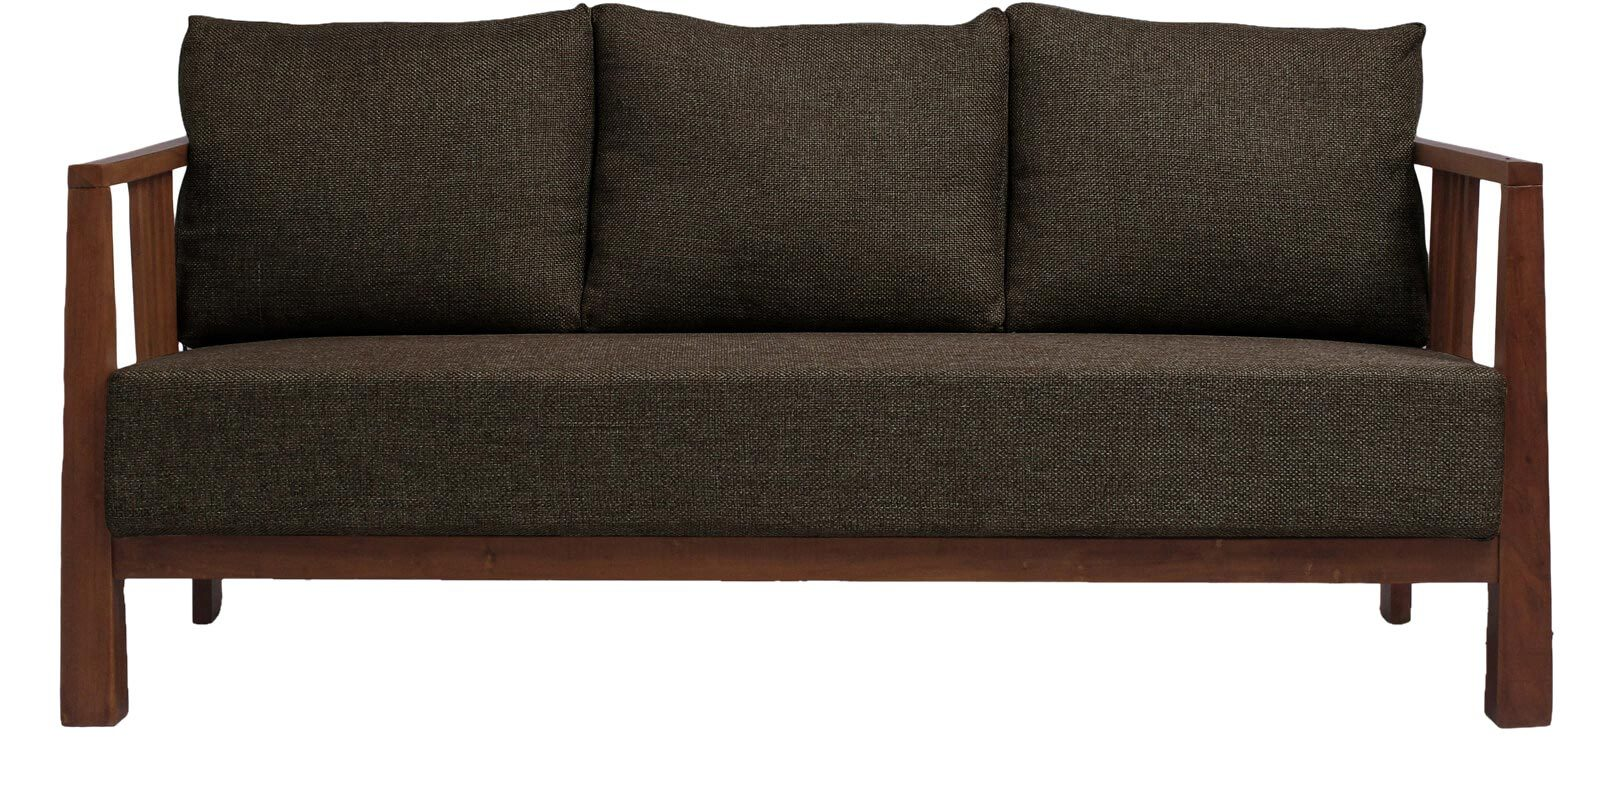Dijon Three Seater Sofa in Dark Brown Colour by Auspicious Home: (39, 8, 1589, 768)
